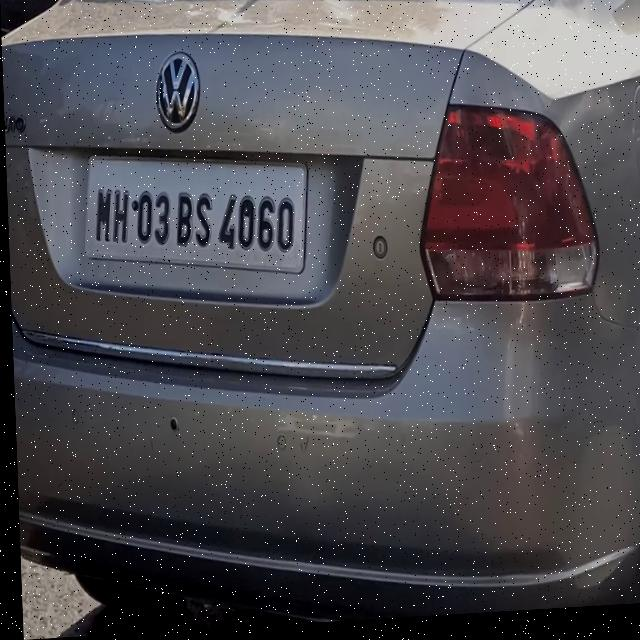plate: (81, 147, 311, 291)
